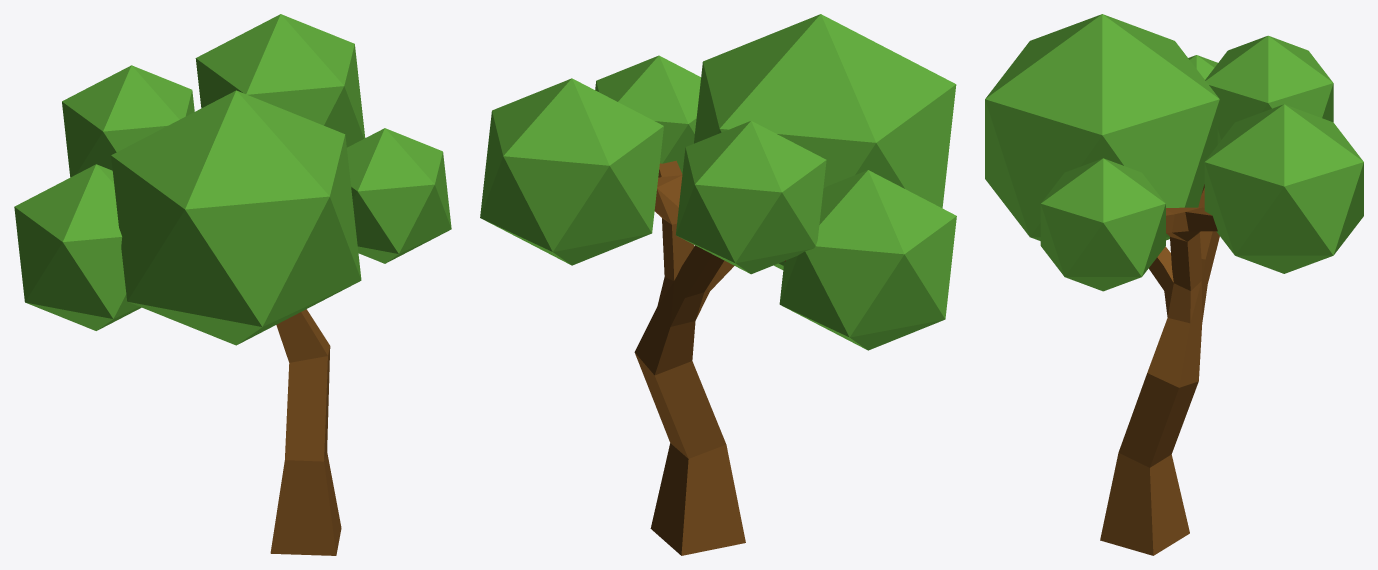
The model's file is yesilagacyeni.fbx.
3 renders of one model, left to right at view 1: azimuth 30°, elevation 25°; view 2: azimuth 150°, elevation 25°; view 3: azimuth 270°, elevation 25°, orthographic. The views are drawn at different scales.
Visible parts, largest first — view 1: Icosphere.004; view 2: Icosphere.004; view 3: Icosphere.004.
Boxes of the visible parts, x1,y1,x2,y2 form: Icosphere.004: (14,14,451,555); Icosphere.004: (480,14,956,555); Icosphere.004: (985,14,1363,555).
Bounding box in the file's own units: 7.37 × 9.19 × 6.58.
1 material, 1 textured.
